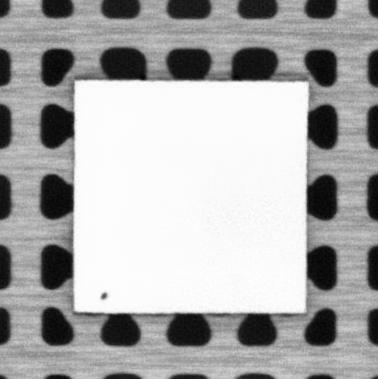DIE_INK: (98, 290, 110, 301)
